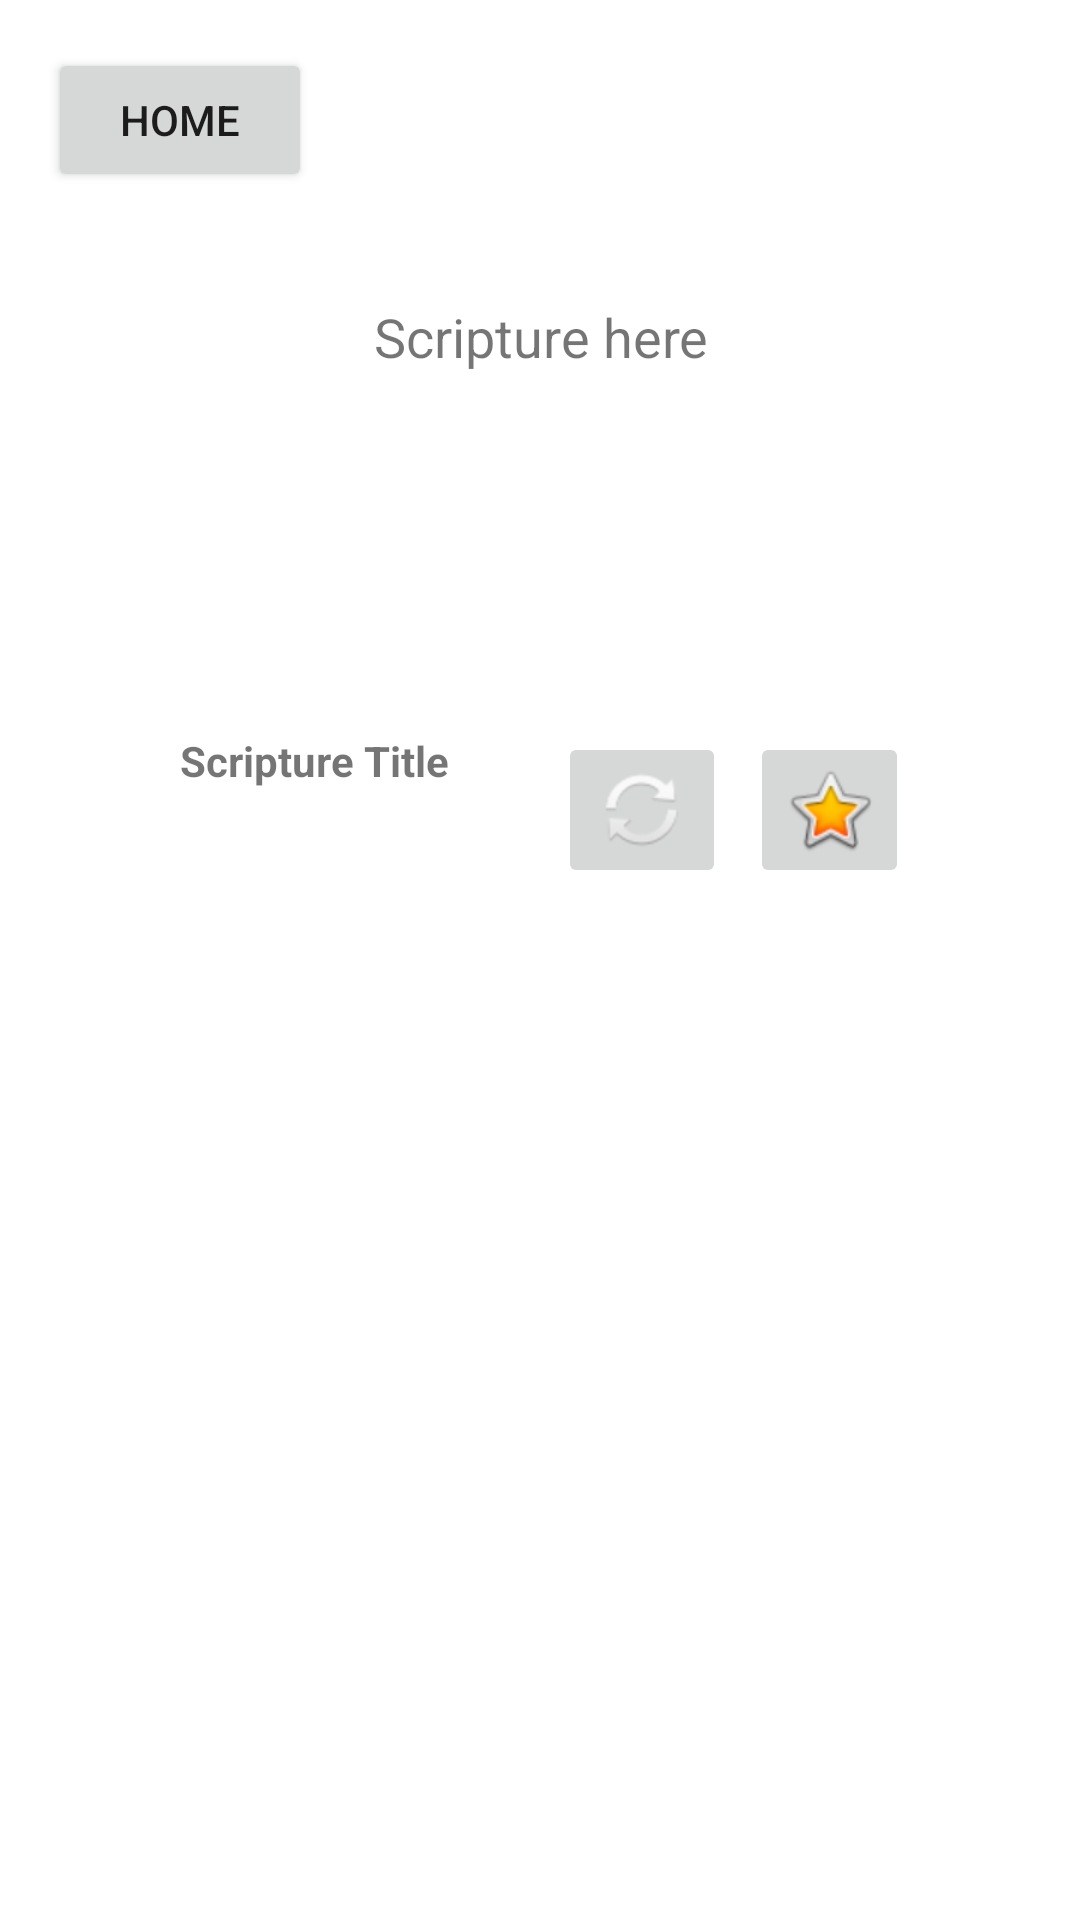

Icons on this 1080×1920 Android screen, each with its box as (x1, y1, x2, y2):
popup sync: (570, 750, 714, 870)
star on: (762, 750, 897, 870)
